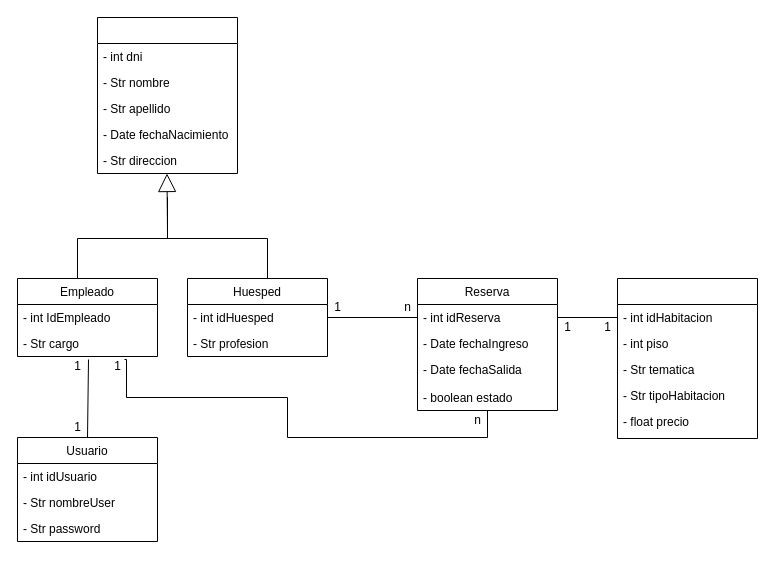
Image size: 775x562. Some labels were removed from this diagram. The shapes that lost their labels are listed below. From the top down, each one's box as (x1, y1, x2, y2) in pixels, then its label:
(96, 16, 238, 174): Persona
(616, 278, 758, 438): Habitación
